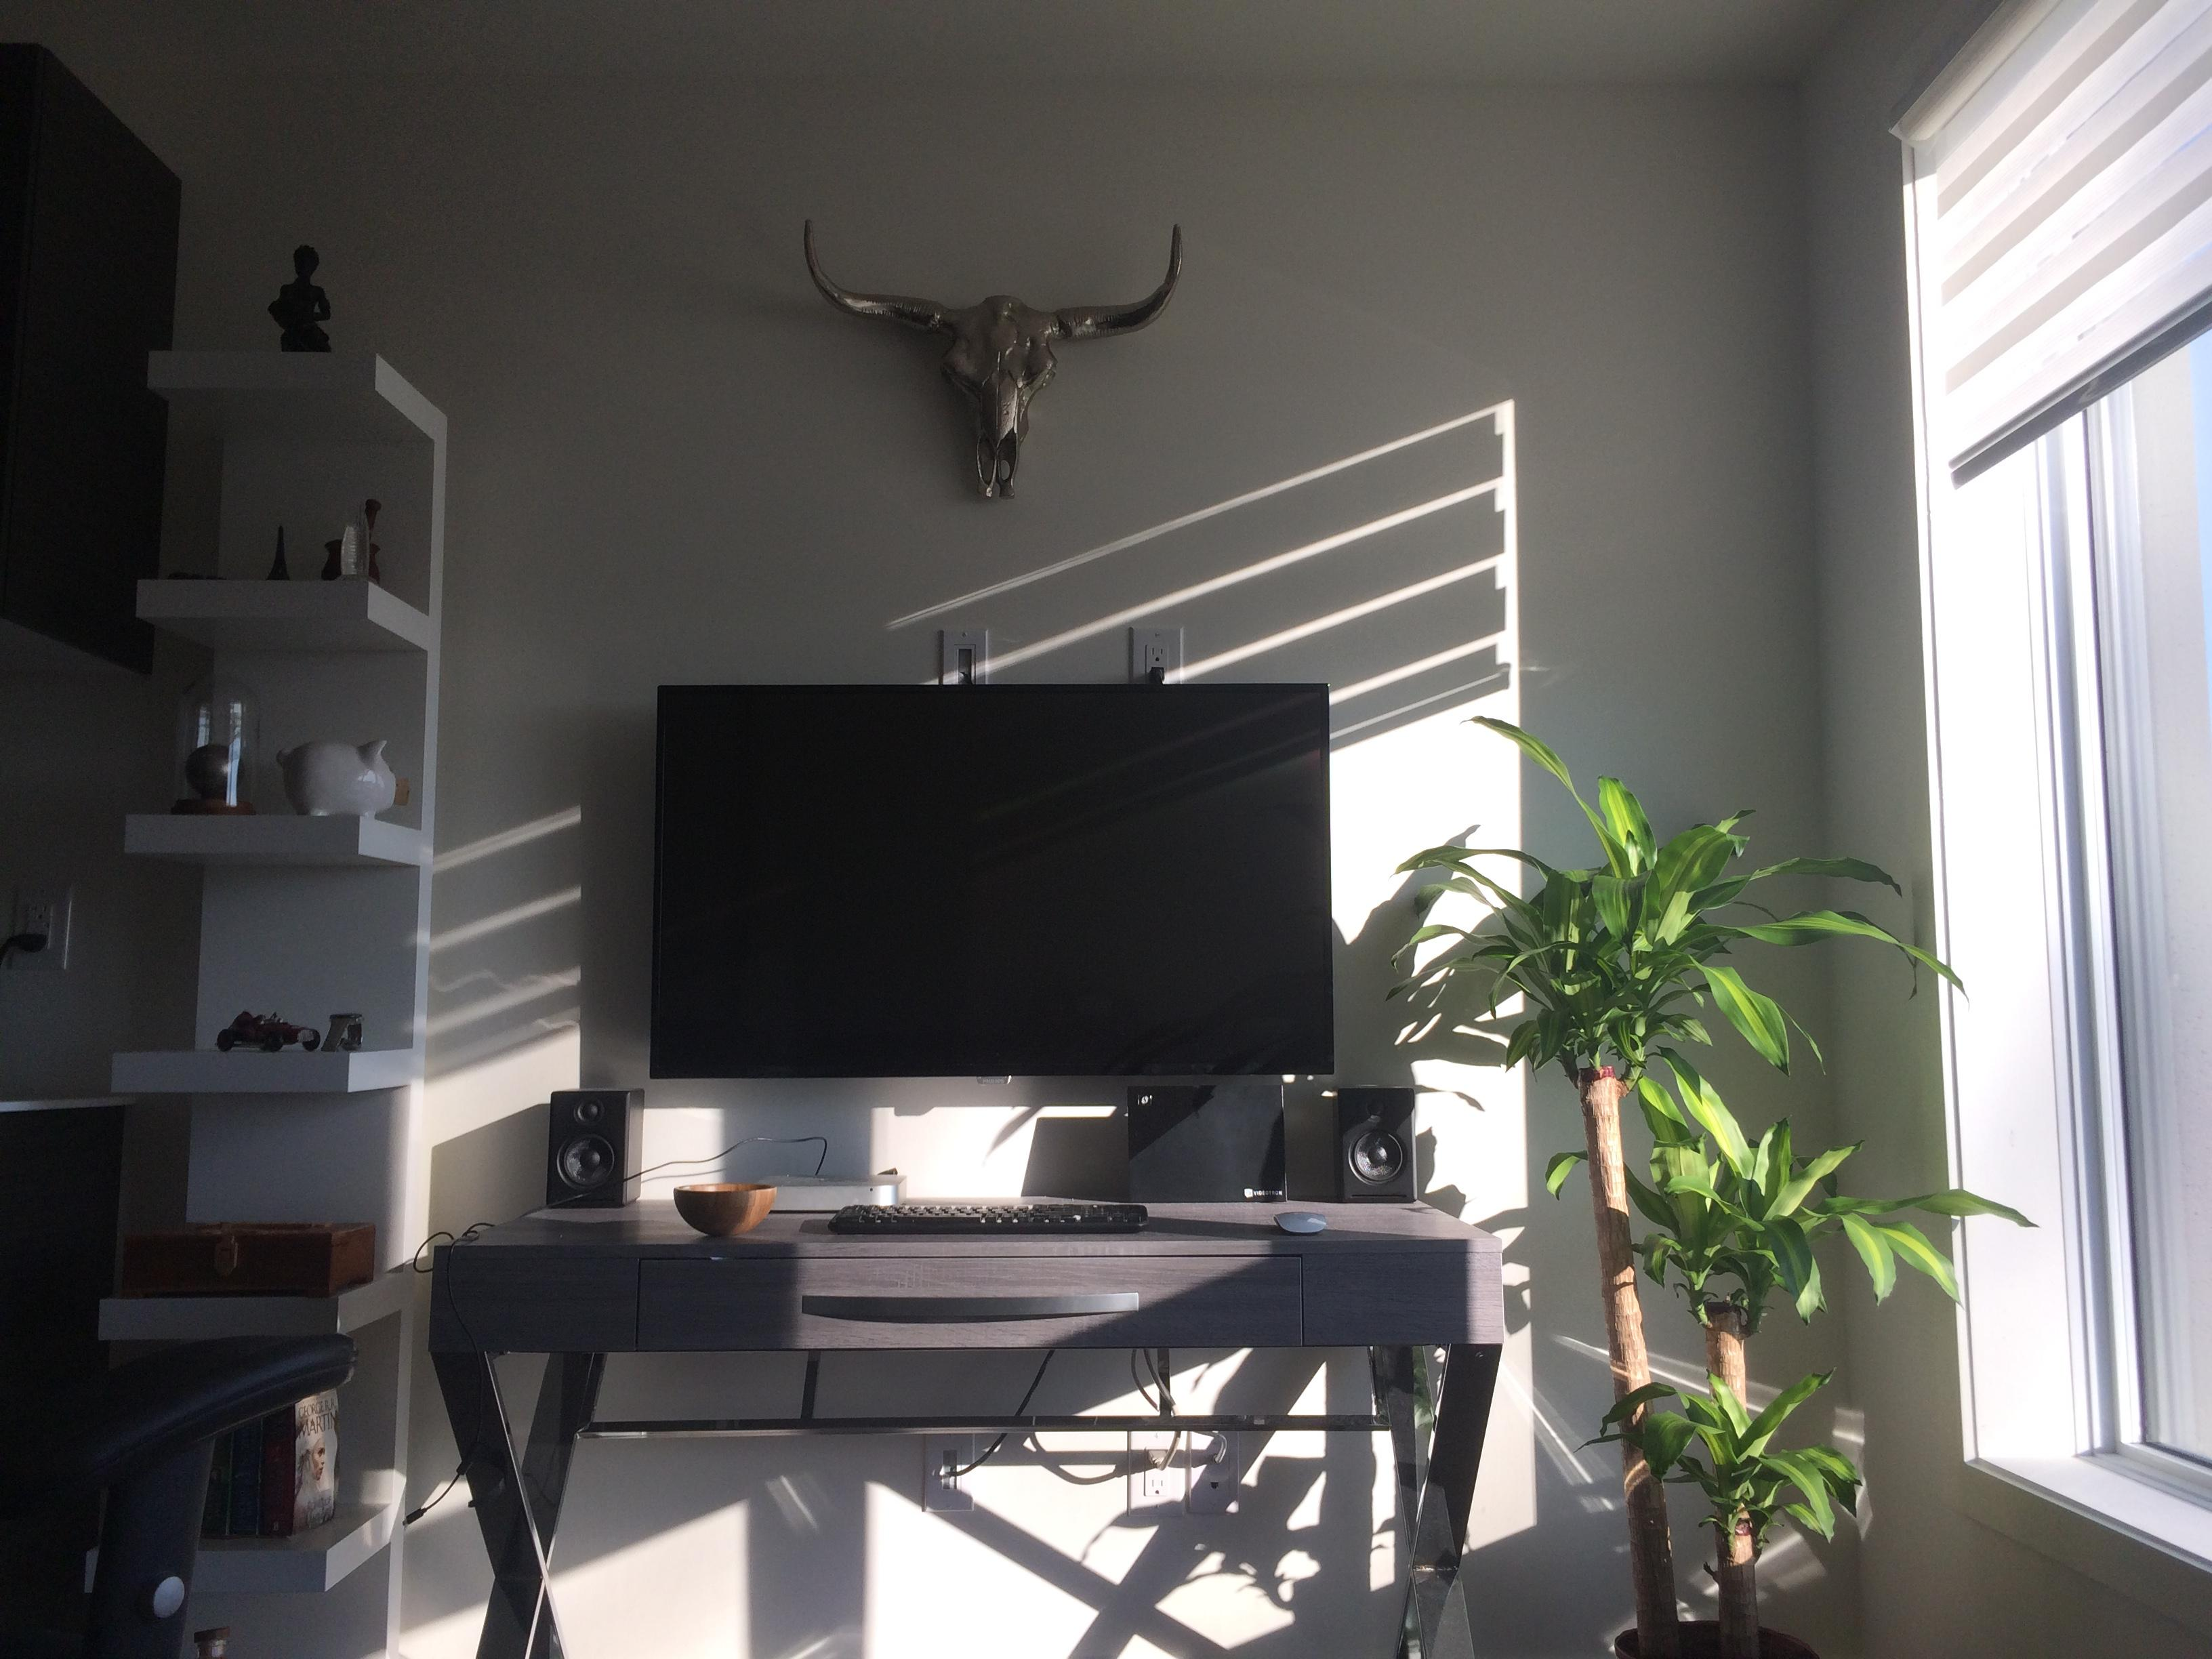Book: (206, 1392, 352, 1535)
Decoration (Generic): (117, 247, 411, 1297), (798, 209, 1186, 505)
Decoration (Plant): (1379, 708, 2047, 1659)
Desk (Generic): (423, 1192, 1510, 1659)
External Speakers (Subwoofers): (545, 1086, 648, 1206), (1329, 1086, 1421, 1201)
Keyboard (Generic): (827, 1201, 1150, 1237)
Monitor (Landscape): (646, 683, 1343, 1082)
Mouse (Generic): (1277, 1209, 1324, 1243)
Storage Drawer: (632, 1251, 1306, 1349)
